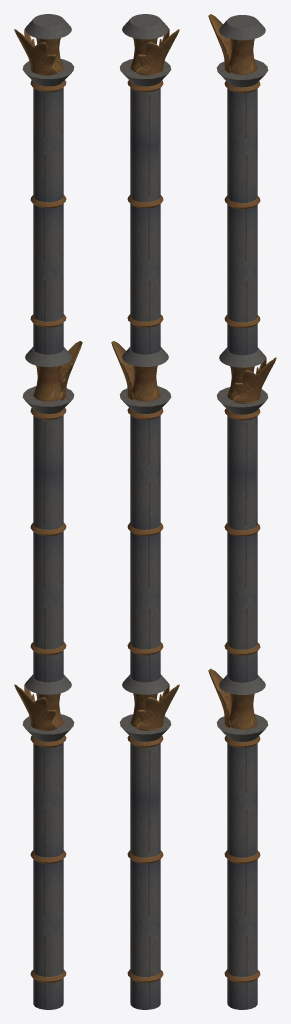
File: SM_ZhuZi04.glb
3 renders of one model, left to right at view 1: azimuth 30°, elevation 25°; view 2: azimuth 150°, elevation 25°; view 3: azimuth 330°, elevation 25°, orthographic.
Visible parts, largest first — view 1: SM_ZhuZi04.010; view 2: SM_ZhuZi04.010; view 3: SM_ZhuZi04.010.
Boxes of the visible parts, x1,y1,x2,y2 form: SM_ZhuZi04.010: (14,14,82,1009); SM_ZhuZi04.010: (111,14,179,1009); SM_ZhuZi04.010: (208,14,276,1009).
Bounding box in the file's own units: 2407 × 33969 × 1654.
Materials: 3 (3 with a texture image).
